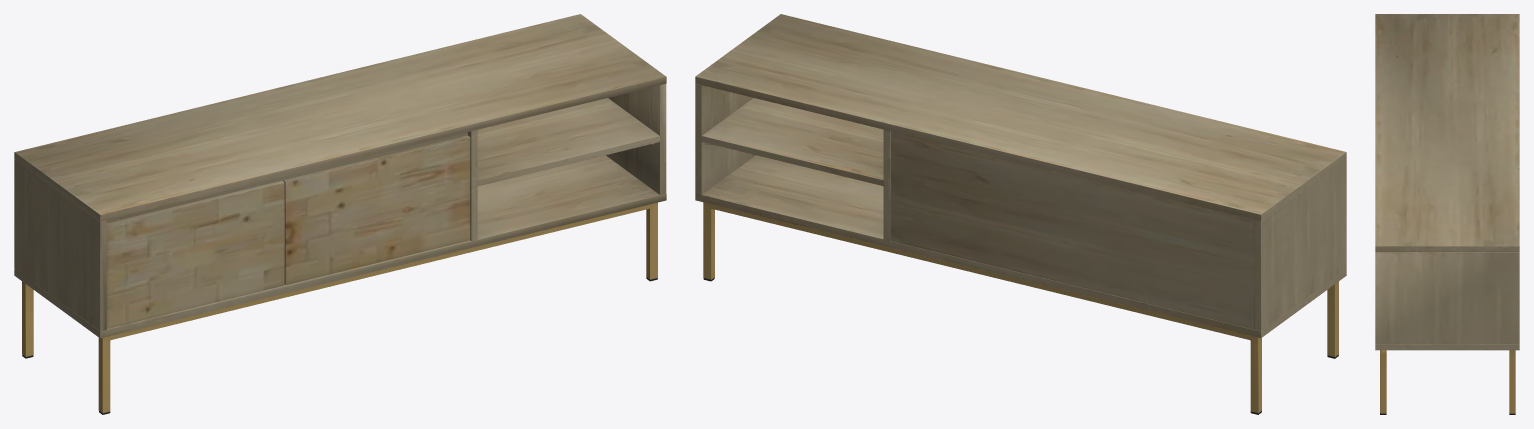
The model's file is tv-unit.glb.
3 renders of one model, left to right at view 1: azimuth 30°, elevation 25°; view 2: azimuth 150°, elevation 25°; view 3: azimuth 270°, elevation 25°, orthographic. The views are drawn at different scales.
Parts seen in each view (by area): view 1: RootNode; view 2: RootNode; view 3: RootNode.
Part boxes in pixels (x1,y1,x2,y2): RootNode: (14,14,666,414); RootNode: (695,14,1346,414); RootNode: (1375,14,1519,414).
Size of the model in its own units: 1.6 by 0.5499 by 0.42.
Materials: 1 (1 with a texture image).
